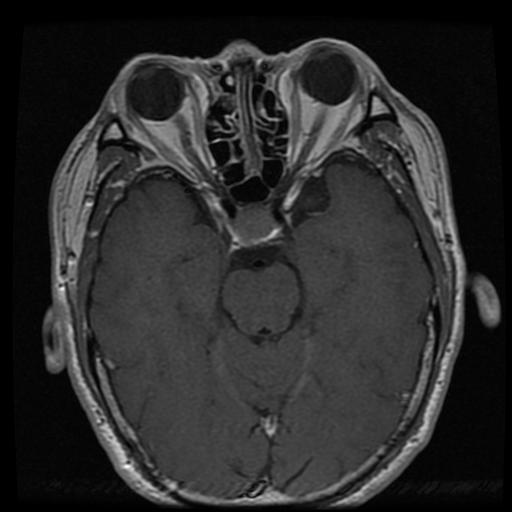Pituirity_tumour: (231, 200, 281, 245)
